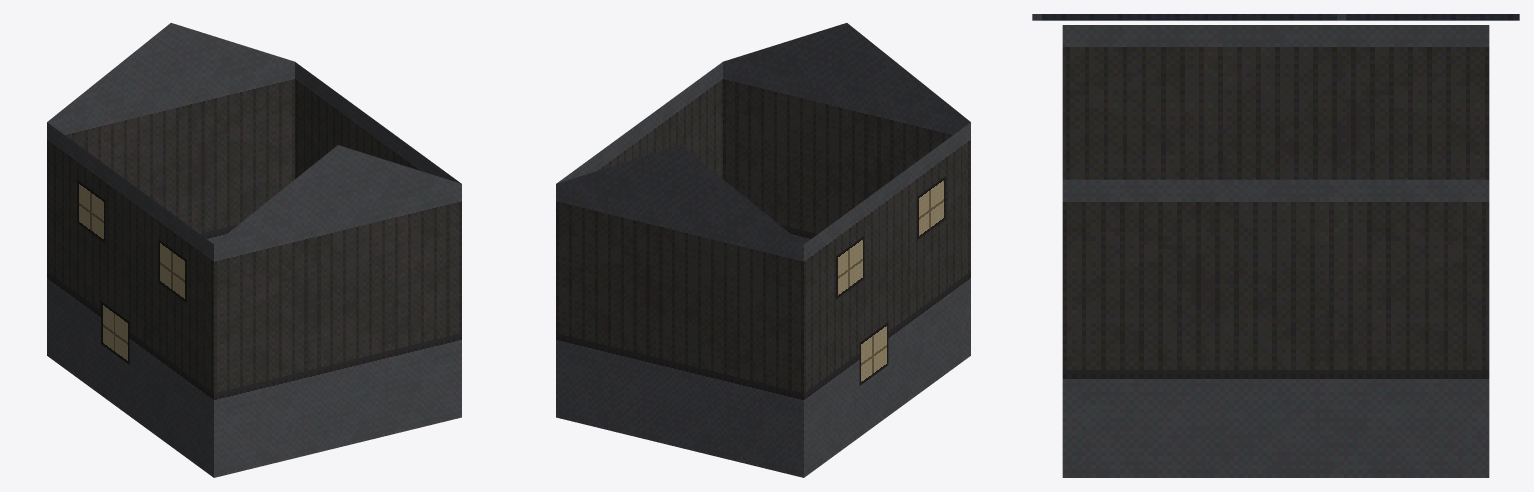
File: mtn_house.glb
3 renders of one model, left to right at view 1: azimuth 30°, elevation 25°; view 2: azimuth 150°, elevation 25°; view 3: azimuth 270°, elevation 25°, orthographic. The views are drawn at different scales.
Visible parts, largest first — view 1: mtn_house; view 2: mtn_house; view 3: mtn_house.
Part boxes in pixels (bbox=[...]): mtn_house: bbox=[47, 23, 461, 477]; mtn_house: bbox=[556, 23, 970, 477]; mtn_house: bbox=[1032, 14, 1519, 477].
Size of the model in its own units: 7 by 7 by 8.
Materials: 3 (3 with a texture image).
